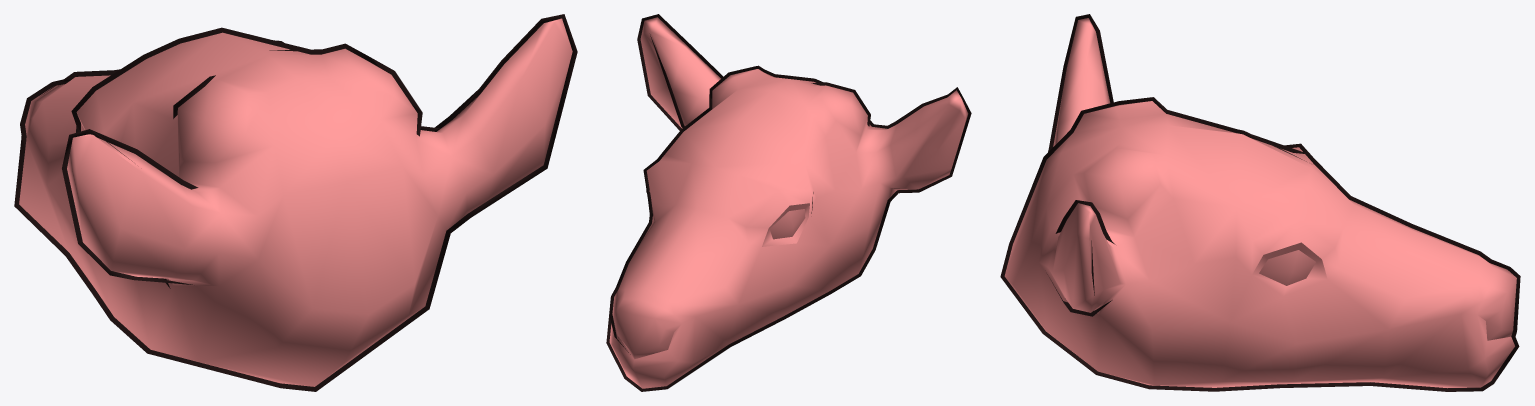
The model's file is entity434696.gltf.
3 views of the same model, side by side, from view 1: azimuth 30°, elevation 25°; view 2: azimuth 150°, elevation 25°; view 3: azimuth 270°, elevation 25° (orthographic). The views are drawn at different scales.
Parts seen in each view (by area): view 1: node_mesh_deer_02; view 2: node_mesh_deer_02; view 3: node_mesh_deer_02.
Part boxes in pixels (x1,y1,x2,y2): node_mesh_deer_02: (14,14,577,391); node_mesh_deer_02: (606,14,971,391); node_mesh_deer_02: (1000,14,1520,391).
Bounding box in the file's own units: 0.6182 × 0.4057 × 0.6745.
